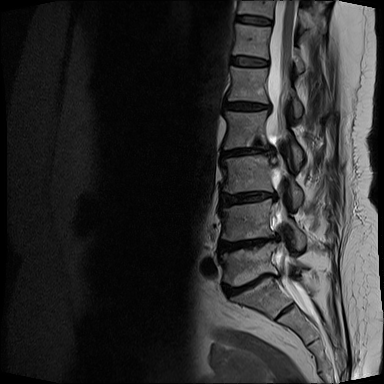Degenerative Disc Disease (DDD): (215, 266, 285, 304), (212, 231, 284, 259), (214, 186, 282, 213), (219, 142, 279, 163)
Lumbar Disc Bulge (LDB): (214, 184, 282, 214), (214, 231, 284, 260), (220, 270, 283, 302), (212, 141, 280, 162), (218, 97, 274, 116)
Normal IVD: (228, 52, 274, 71), (232, 12, 276, 30)
Spinal Stenosis (SS): (261, 141, 279, 162), (266, 185, 282, 206), (265, 231, 283, 249), (261, 97, 276, 117), (266, 268, 282, 284)
